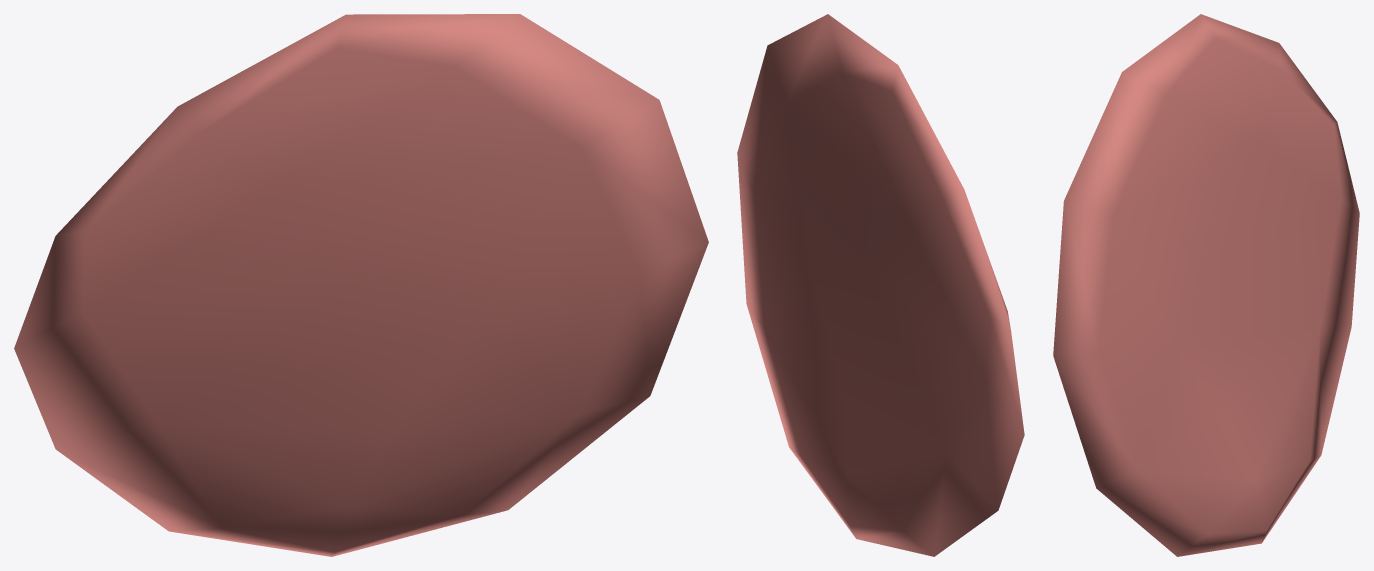
3 views of the same model, side by side, from view 1: azimuth 30°, elevation 25°; view 2: azimuth 150°, elevation 25°; view 3: azimuth 270°, elevation 25° (orthographic). The views are drawn at different scales.
Visible parts, largest first — view 1: ZA_c27262423f605079; view 2: ZA_c27262423f605079; view 3: ZA_c27262423f605079.
Boxes of the visible parts, box(x1,y1,x2,y2) form: ZA_c27262423f605079: box(14, 14, 708, 556); ZA_c27262423f605079: box(737, 14, 1024, 556); ZA_c27262423f605079: box(1053, 14, 1359, 556).
Bounding box in the file's own units: 0.00574 × 0.00595 × 0.00317.
